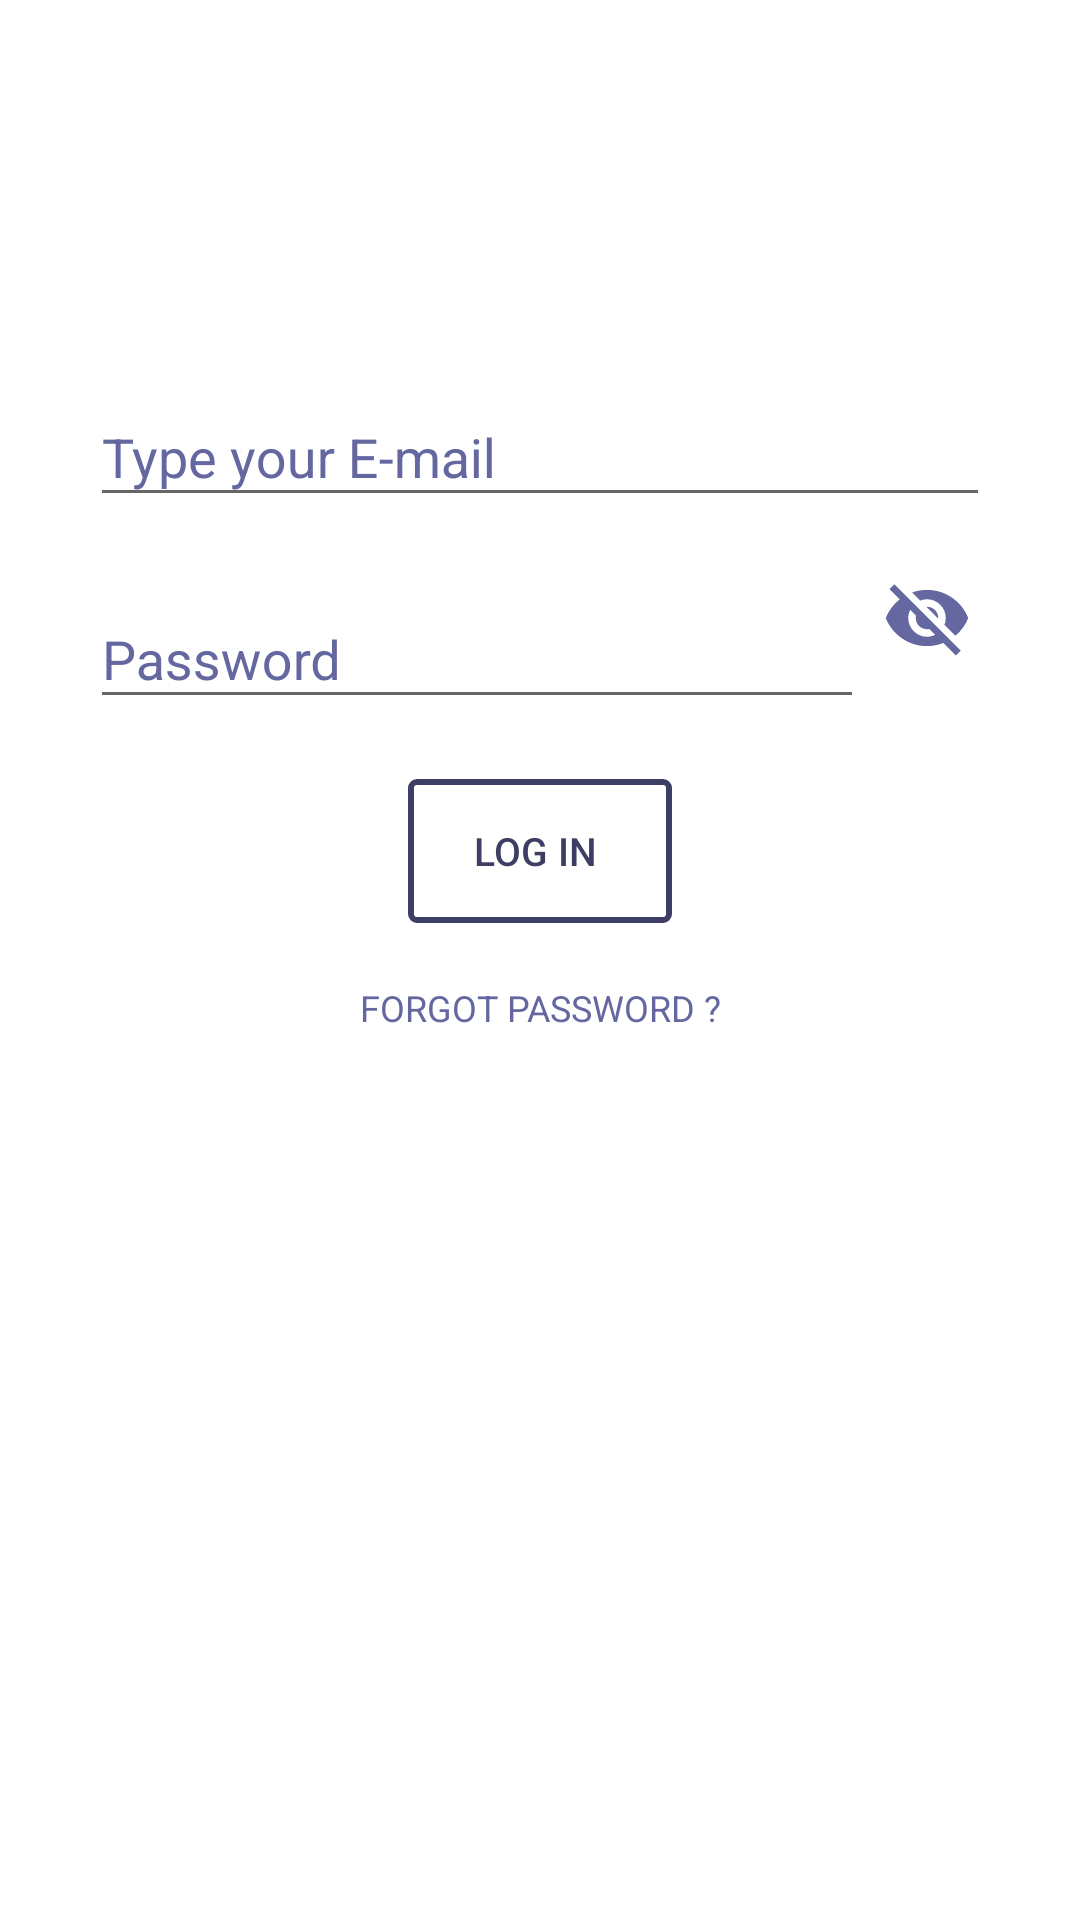

Icon click points for this 1080px×1920px phone screenshot, format (x,y):
visibility off: (927,620)
